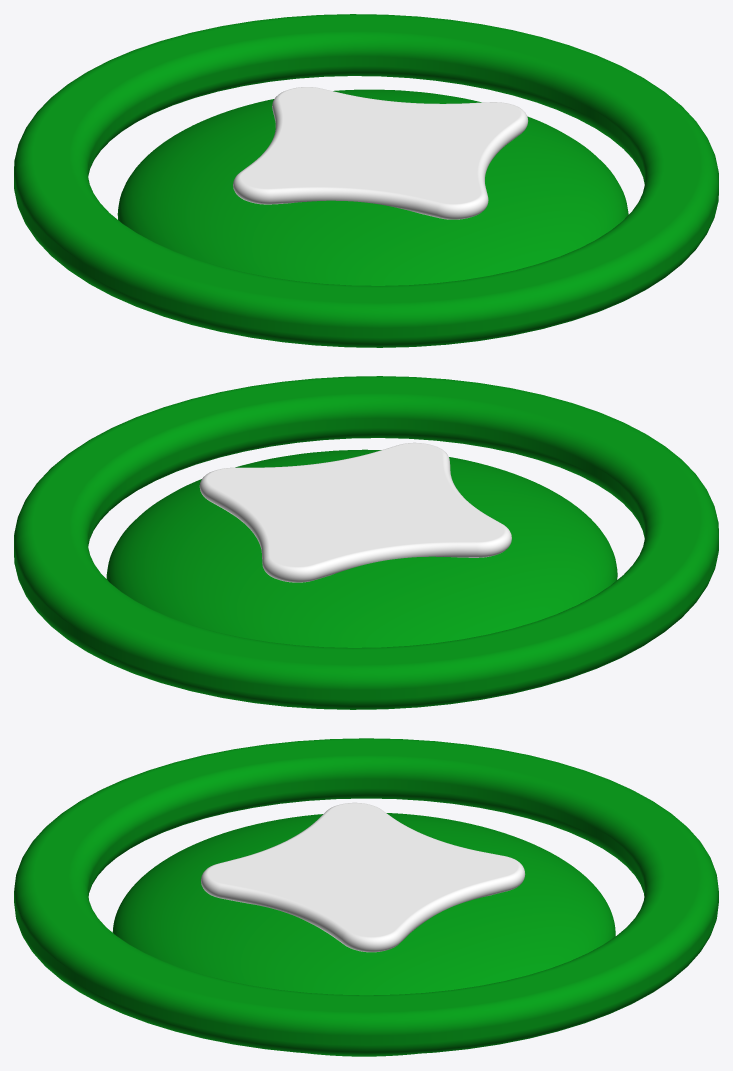
File: BOTÃOgreen.glb
3 views of the same model, one above another, from view 1: azimuth 30°, elevation 25°; view 2: azimuth 150°, elevation 25°; view 3: azimuth 270°, elevation 25° (orthographic). The views are drawn at different scales.
Visible parts, largest first — view 1: Ellipse 3, Sphere 3, Star 3; view 2: Ellipse 3, Sphere 3, Star 3; view 3: Ellipse 3, Sphere 3, Star 3.
Part boxes in pixels (bbox=[...]): Ellipse 3: bbox=[14, 14, 718, 347]; Sphere 3: bbox=[117, 89, 628, 285]; Star 3: bbox=[233, 87, 528, 219]; Ellipse 3: bbox=[14, 376, 718, 709]; Sphere 3: bbox=[106, 449, 617, 647]; Star 3: bbox=[199, 442, 511, 582]; Ellipse 3: bbox=[14, 738, 718, 1055]; Sphere 3: bbox=[112, 813, 615, 1056]; Star 3: bbox=[201, 802, 525, 952].
Size of the model in its own units: 3.72 by 0.7915 by 3.86.
